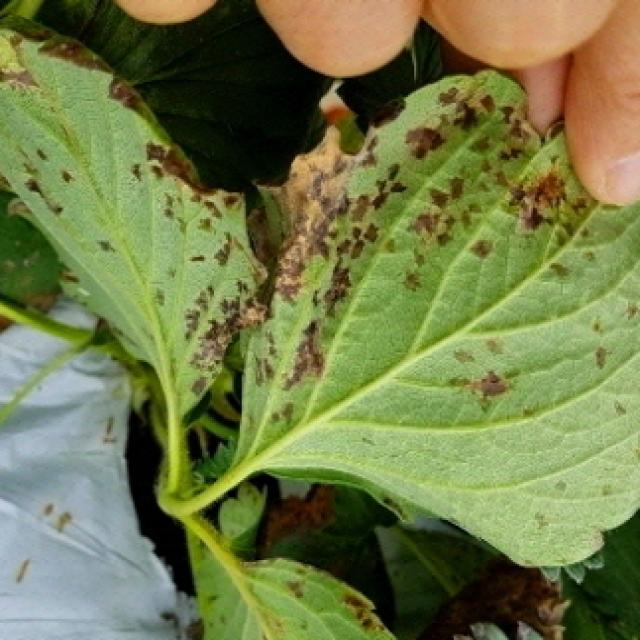Angular Leafspot: (235, 67, 640, 569), (0, 13, 268, 417), (181, 521, 399, 640)
